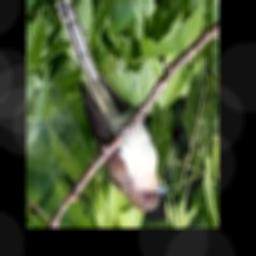Cuckoo: (56, 0, 171, 212)
